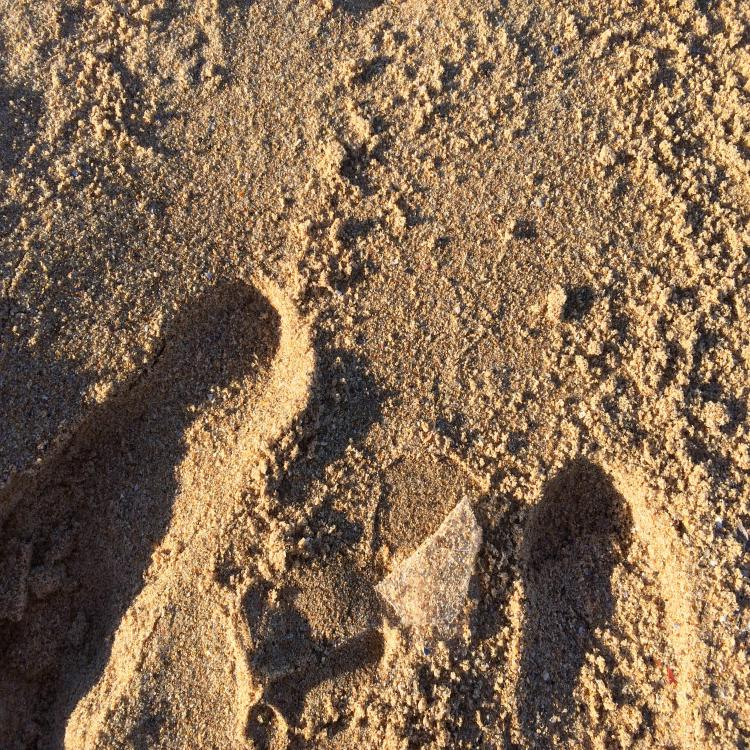Plastic film: (372, 494, 483, 626)
